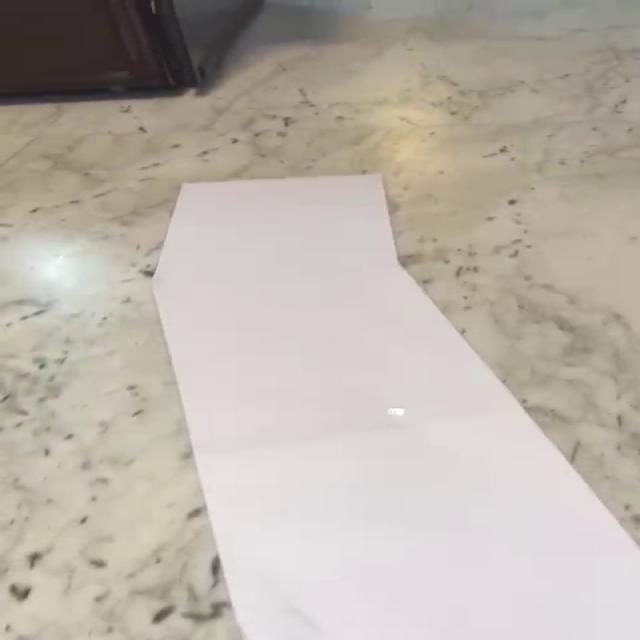road: (153, 175, 637, 640)
